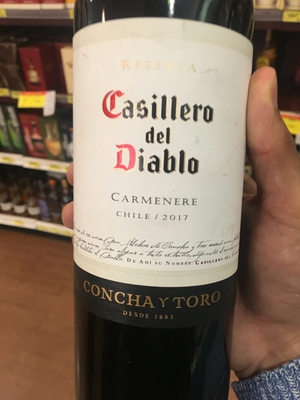casillero del diablo carmenere: (60, 12, 251, 400)
